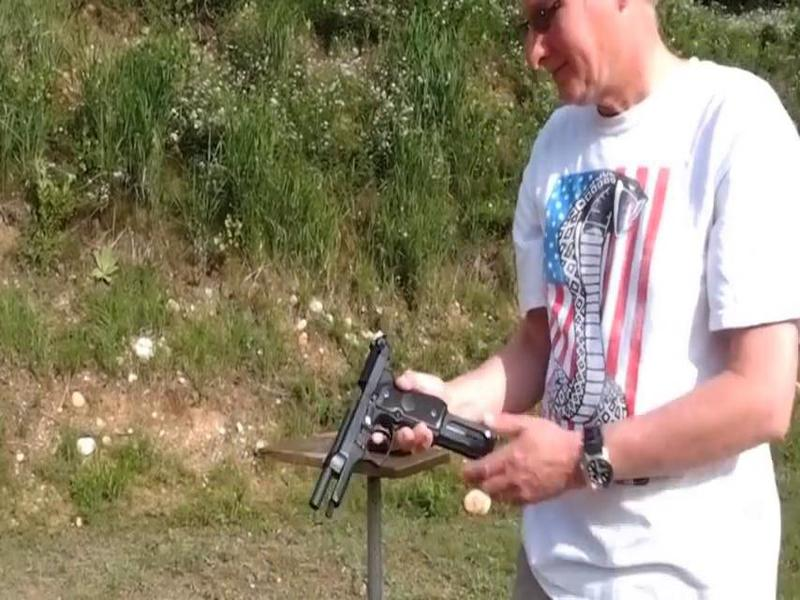Pistola: (313, 333, 501, 547)
